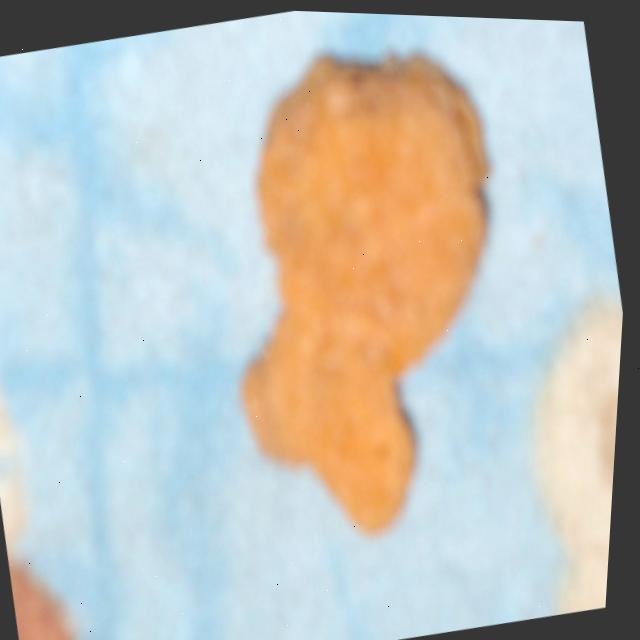鸡肉料理 含炸鸡: (122, 4, 623, 585)
